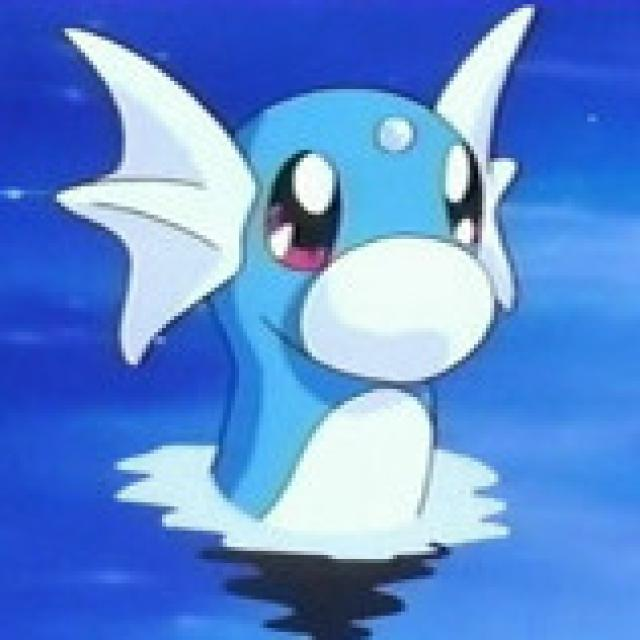Dratini: (67, 4, 554, 544)
